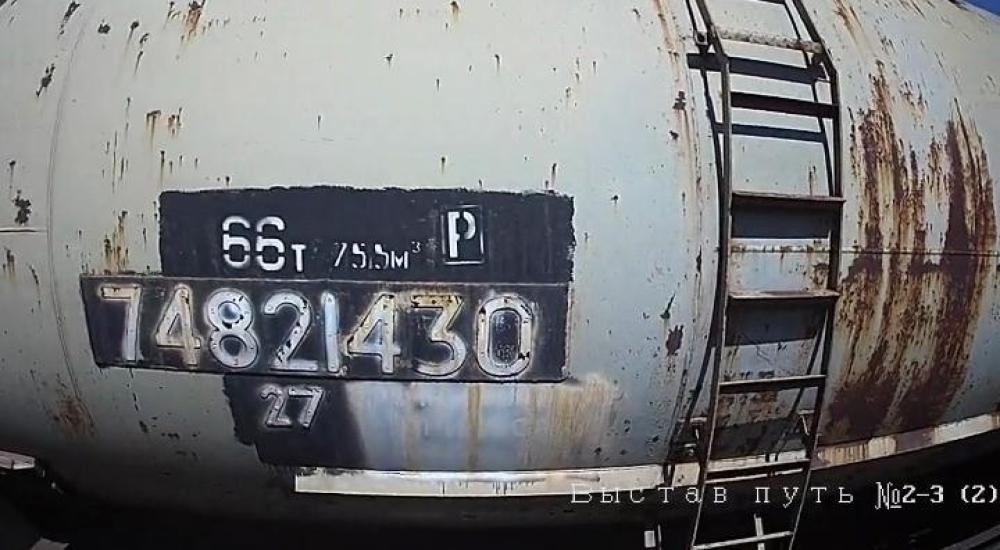Wagon-number: (95, 277, 544, 382)
